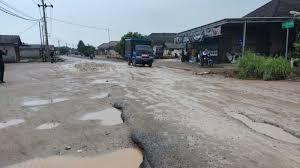Pothole: (81, 53, 241, 151), (1, 141, 172, 168), (231, 100, 300, 166), (76, 107, 140, 128), (37, 117, 65, 136), (16, 96, 75, 105), (1, 110, 24, 131), (83, 92, 116, 101)
